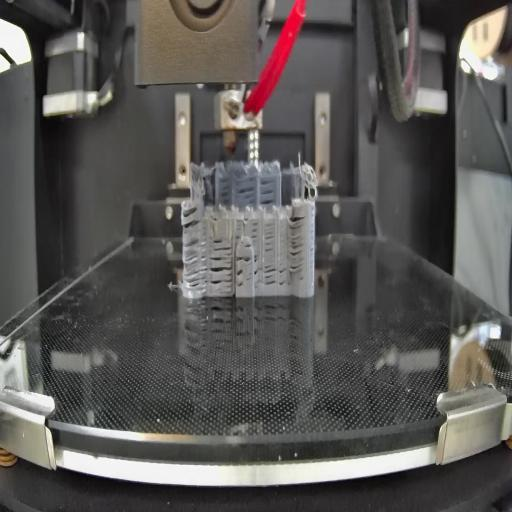cracks: (183, 239, 208, 291), (288, 214, 306, 276), (210, 256, 234, 292), (236, 174, 257, 206), (264, 264, 288, 288), (182, 200, 200, 230), (260, 176, 276, 206), (217, 176, 233, 202), (264, 222, 275, 255), (253, 254, 262, 288), (213, 239, 230, 252), (234, 218, 244, 239), (235, 270, 244, 290), (237, 255, 252, 265), (251, 222, 258, 240), (244, 241, 252, 249)
